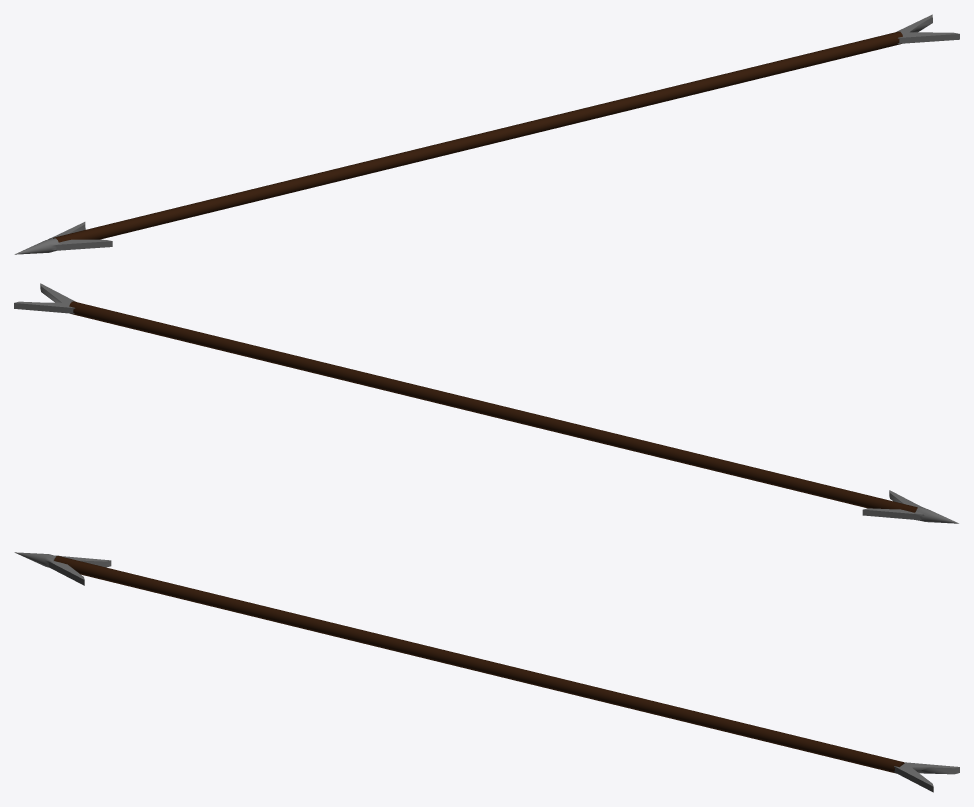
Rendered from Flecha.FBX.
The picture shows the model from 3 angles, top to bottom: view 1: azimuth 30°, elevation 25°; view 2: azimuth 150°, elevation 25°; view 3: azimuth 330°, elevation 25°; orthographic projection.
Visible parts, largest first — view 1: flecha016, cola016, cola017; view 2: flecha016, cola016, cola017; view 3: flecha016, cola016, cola017.
Boxes of the visible parts, x1,y1,x2,y2 form: flecha016: [53, 31, 902, 242]; cola016: [896, 14, 959, 43]; cola017: [51, 222, 112, 250]; flecha016: [69, 301, 917, 512]; cola016: [14, 283, 75, 313]; cola017: [862, 490, 924, 520]; flecha016: [54, 556, 904, 773]; cola016: [894, 762, 959, 792]; cola017: [47, 556, 111, 585].
Bounding box in the file's own units: 33.1 × 0.4077 × 1.68.
